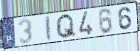3: (17, 17, 34, 46)
4: (79, 10, 94, 36)
6: (98, 7, 114, 35), (118, 7, 133, 31)
I: (44, 15, 53, 42)
Q: (55, 13, 78, 40)
